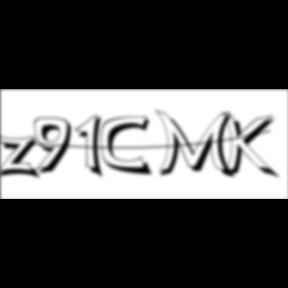1: (74, 114, 110, 182)
9: (34, 117, 78, 177)
C: (100, 115, 156, 178)
K: (222, 110, 282, 182)
M: (155, 108, 239, 181)
z: (0, 134, 46, 182)
